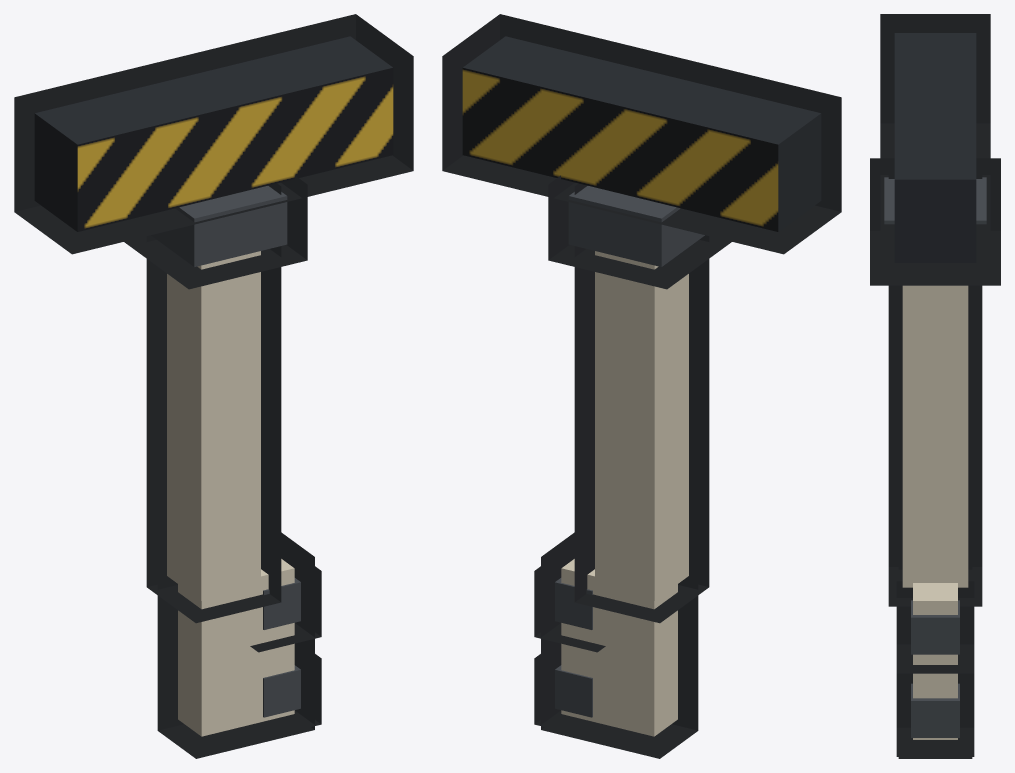
Rendered from SM_Key_Exit.glb.
The picture shows the model from 3 angles, left to right: view 1: azimuth 30°, elevation 25°; view 2: azimuth 150°, elevation 25°; view 3: azimuth 270°, elevation 25°; orthographic projection. The views are drawn at different scales.
Parts seen in each view (by area): view 1: SM_Key_Exit, SM_Key_Exit_Outline; view 2: SM_Key_Exit, SM_Key_Exit_Outline; view 3: SM_Key_Exit, SM_Key_Exit_Outline.
Part boxes in pixels (bbox=[...]): SM_Key_Exit: bbox=[34, 36, 393, 736]; SM_Key_Exit_Outline: bbox=[14, 14, 413, 758]; SM_Key_Exit: bbox=[462, 36, 821, 736]; SM_Key_Exit_Outline: bbox=[442, 14, 841, 758]; SM_Key_Exit: bbox=[884, 33, 986, 739]; SM_Key_Exit_Outline: bbox=[870, 14, 1000, 758].
Bounding box in the file's own units: 0.184 × 0.339 × 0.064.
Materials: 2 (1 with a texture image).
